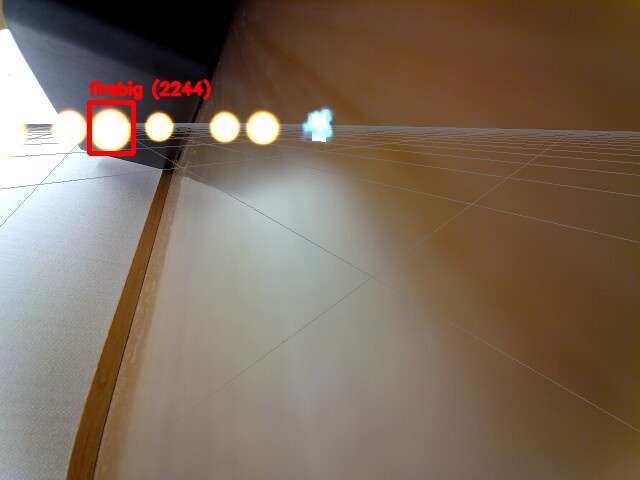firebig: (89, 102, 133, 153)
